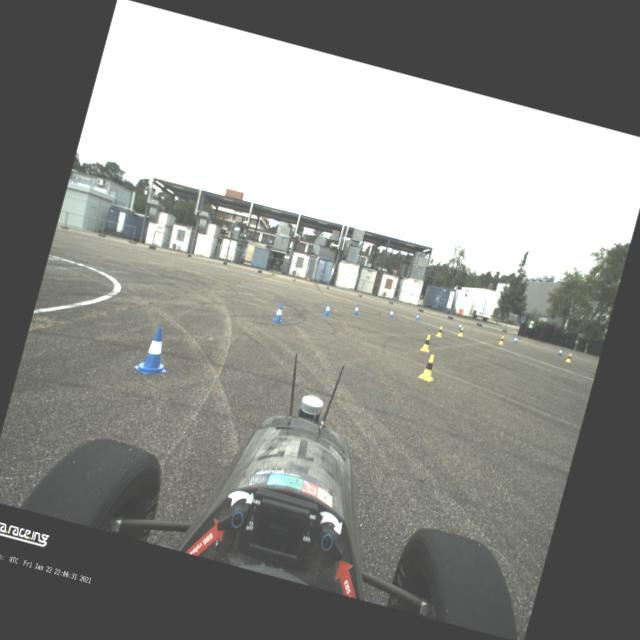blue_cone: (132, 322, 177, 380), (271, 302, 287, 324), (322, 302, 332, 316), (352, 304, 361, 316), (557, 346, 563, 356), (414, 312, 420, 322), (388, 308, 394, 318), (512, 335, 518, 343), (457, 322, 462, 329)
yellow_cone: (418, 352, 440, 382), (418, 333, 432, 352), (436, 325, 444, 337), (564, 352, 572, 363), (458, 326, 464, 336), (498, 334, 504, 344)
